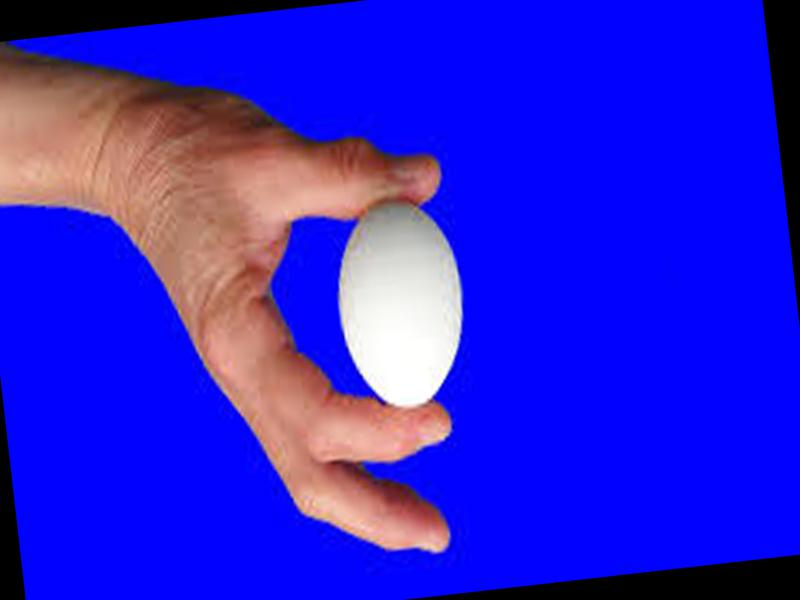Eggs: (327, 195, 473, 418)
